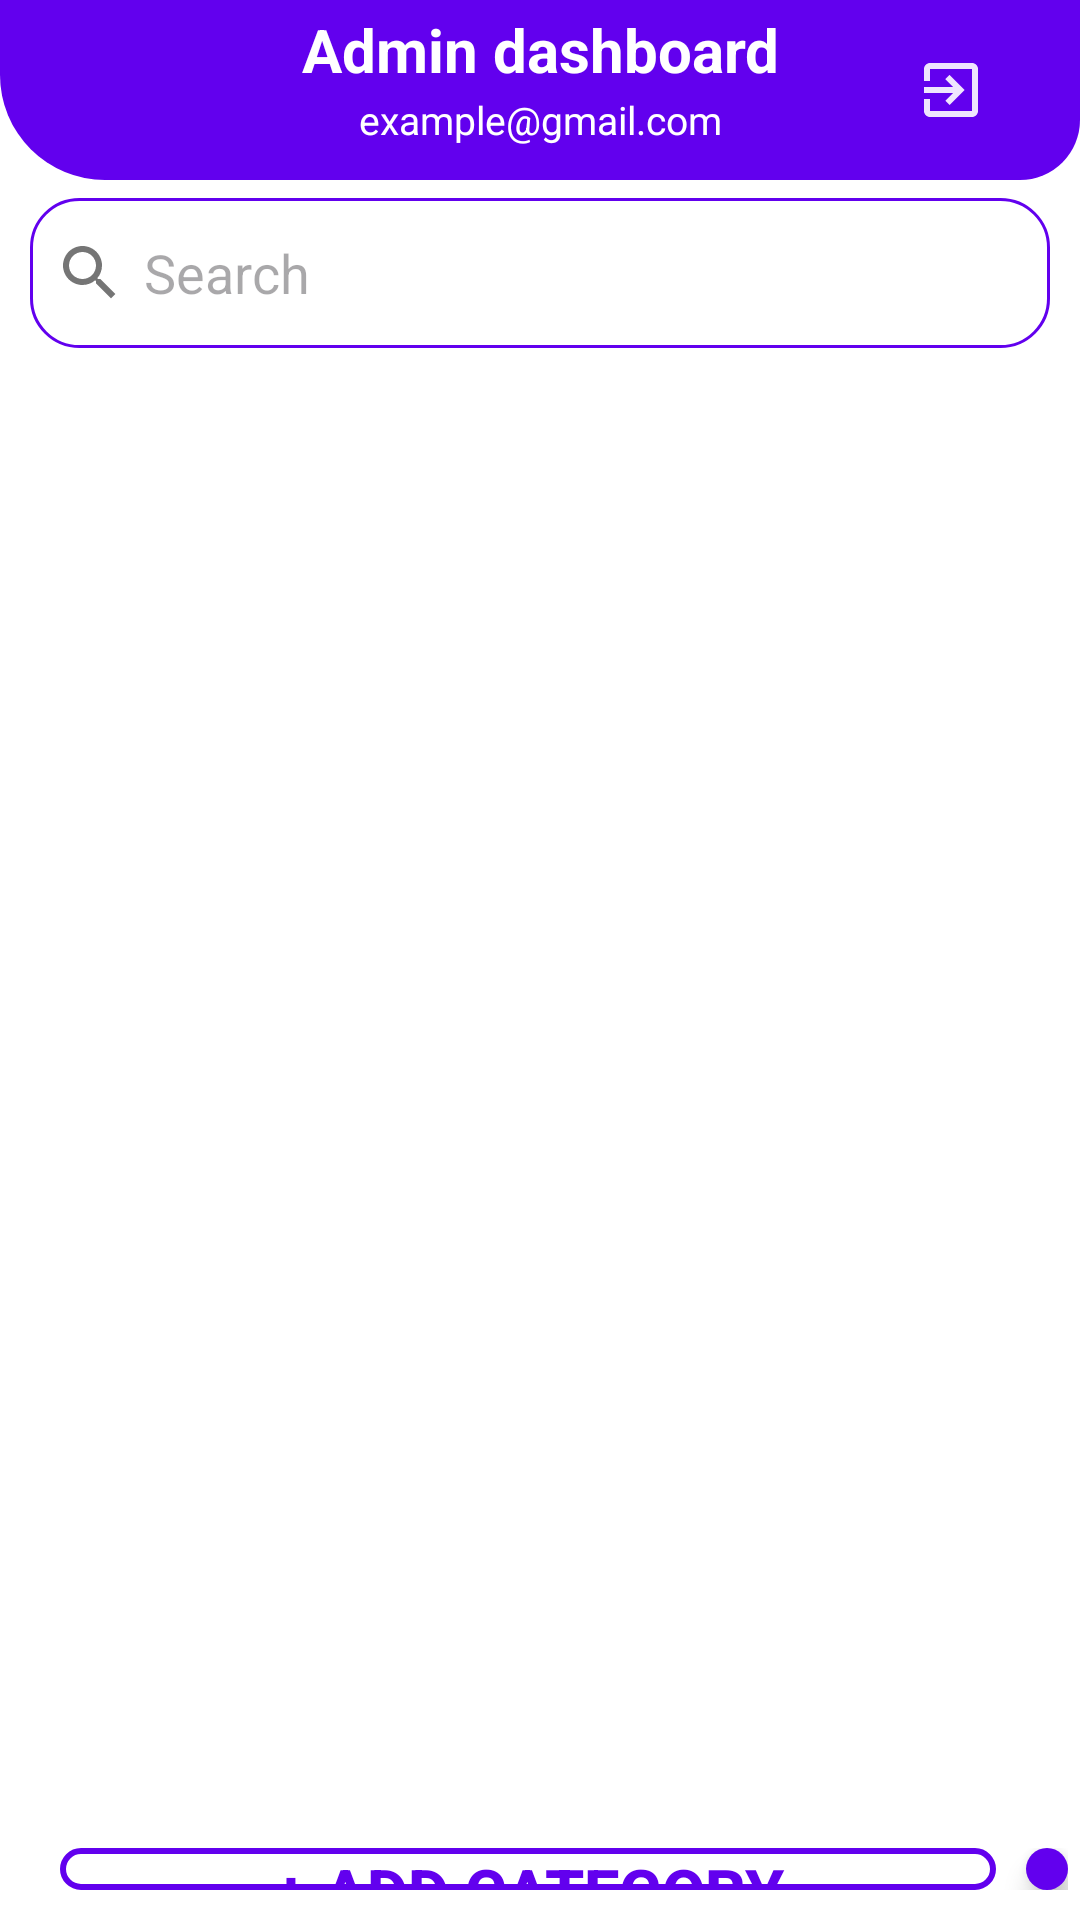

Icons on this 1080 × 1920 Android screen, each with the point to tap as (x=x, y=y):
exit to app: (x=951, y=90)
